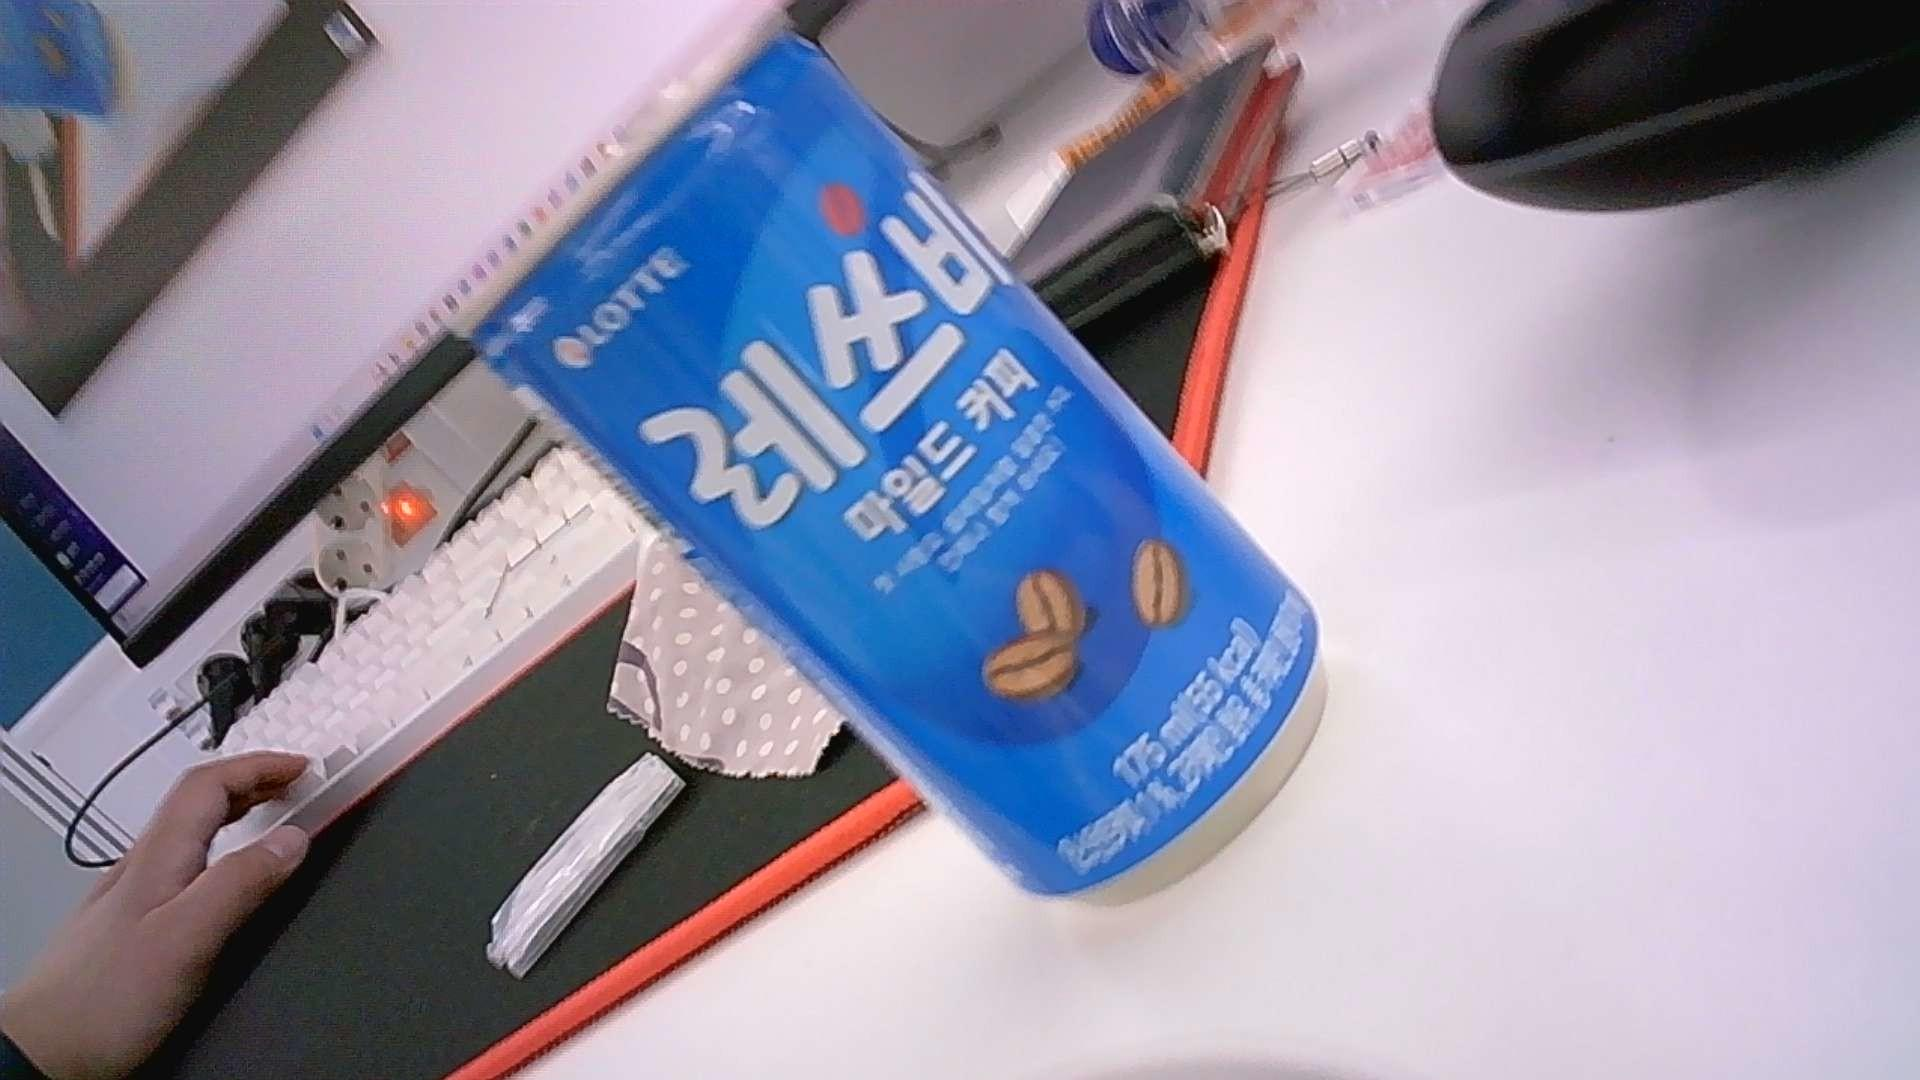letsbe: (450, 4, 1331, 906)
